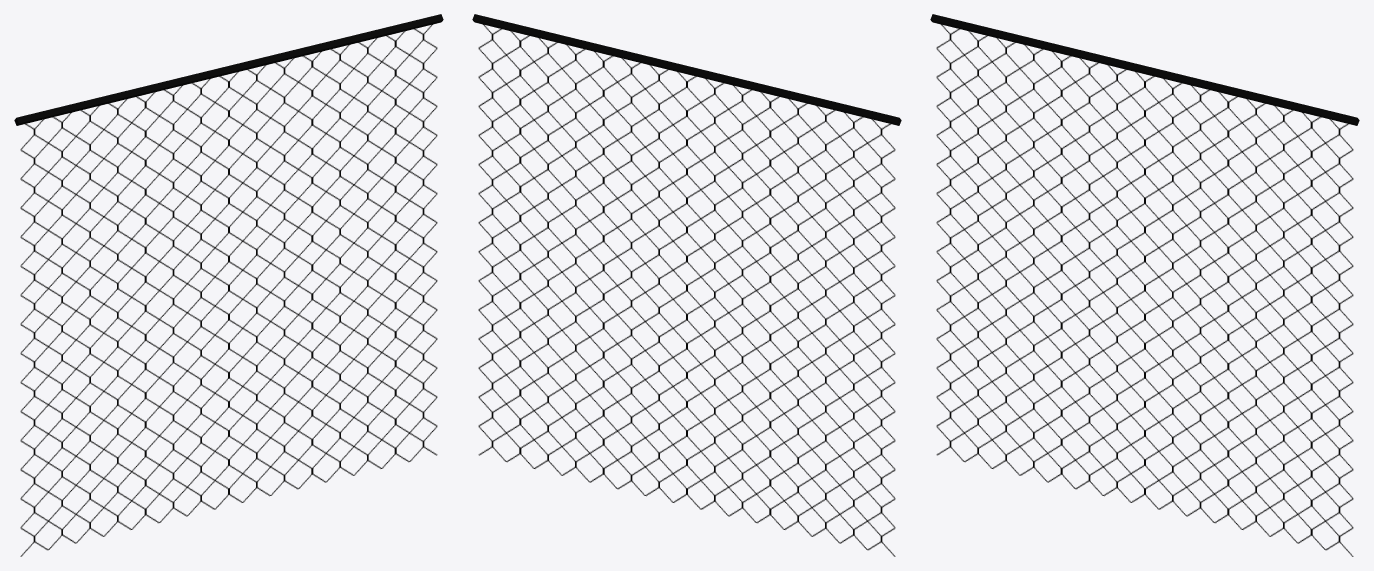
File: fence-metal-open.glb
3 renders of one model, left to right at view 1: azimuth 30°, elevation 25°; view 2: azimuth 150°, elevation 25°; view 3: azimuth 330°, elevation 25°, orthographic.
Visible parts, largest first — view 1: fence.metal_open; view 2: fence.metal_open; view 3: fence.metal_open.
Boxes of the visible parts, <box> form: fence.metal_open: <box>14,14,443,556</box>; fence.metal_open: <box>472,14,901,556</box>; fence.metal_open: <box>930,14,1359,556</box>.
Bounding box in the file's own units: 2.04 × 2.02 × 0.0386.
1 material, 1 textured.
